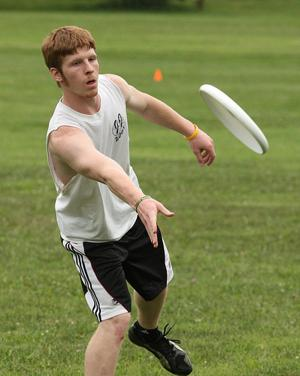person: (41, 26, 217, 376)
